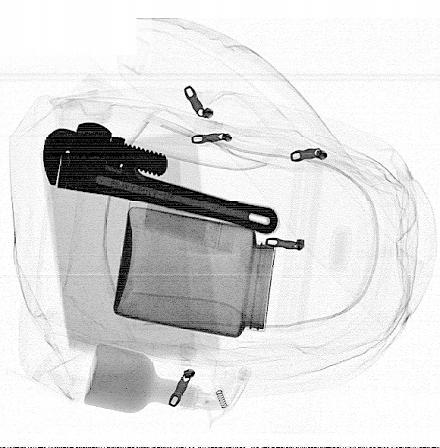Wrench: (41, 120, 279, 237)
